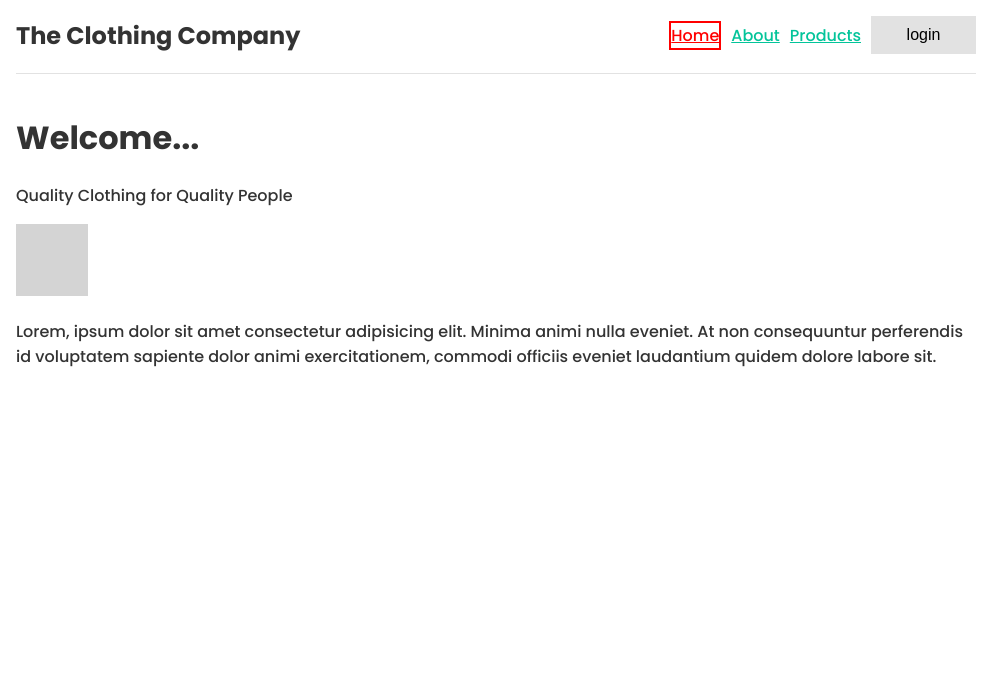
Scenario: React Router Application E2E Tests › should display products when user is logged in
Login first
Click the button with test id "login_button". click: {"x": 924, "y": 35}
box: 871,16 -> 976,54
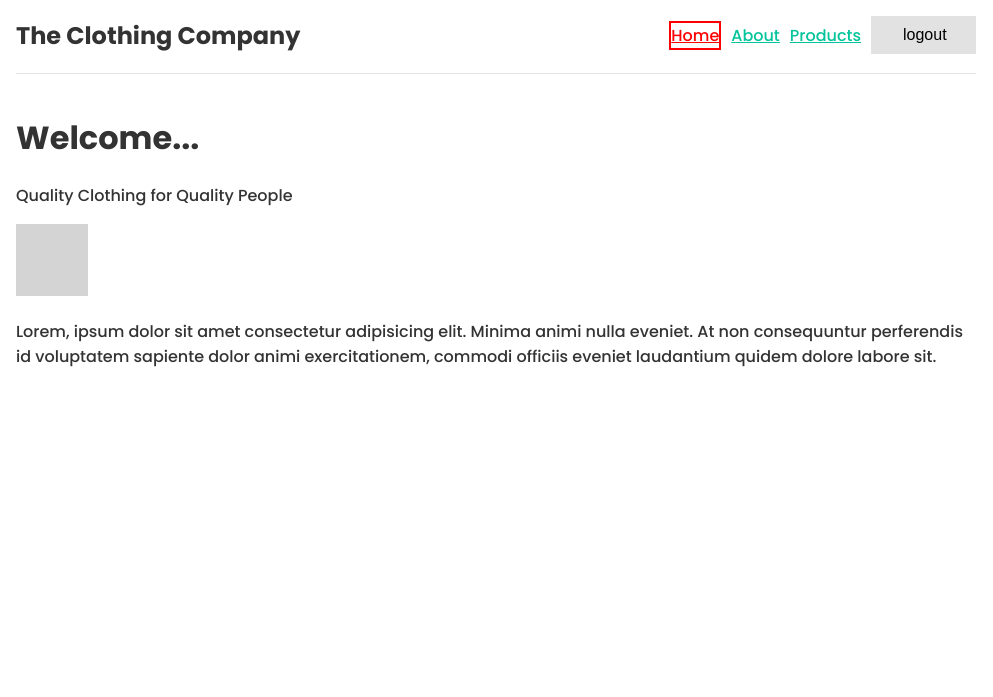
Now the button with test id "login_button" reads "logout", box 871,16 -> 976,54
Navigate to Products
Click the link with test id "Product_Link". click: {"x": 826, "y": 36}
box: 790,23 -> 861,48
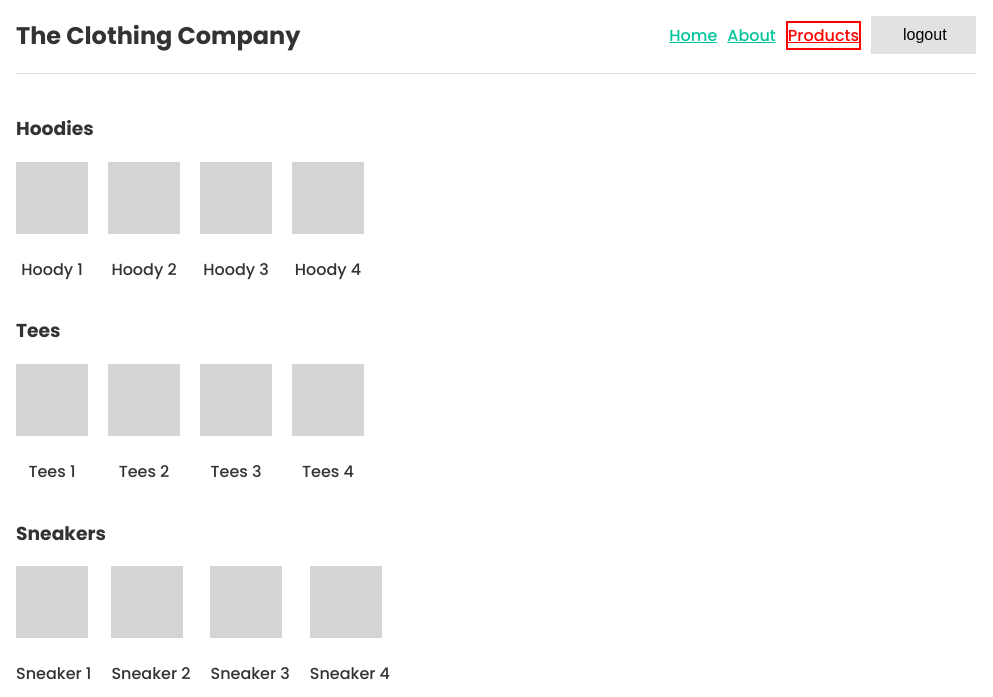
Now the heading "Hoodies" is shown, box 16,115 -> 94,142
Now the heading "Tees" is shown, box 16,317 -> 60,344
Now the heading "Sneakers" is shown, box 16,520 -> 106,547
